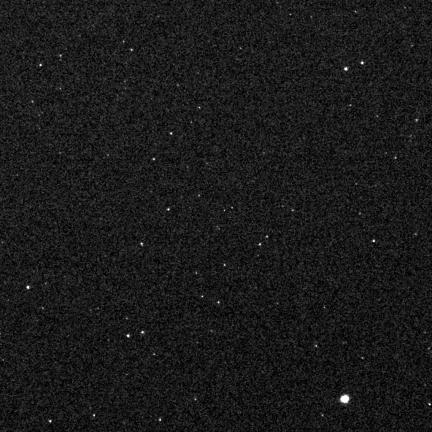blob: (344, 67, 348, 71)
